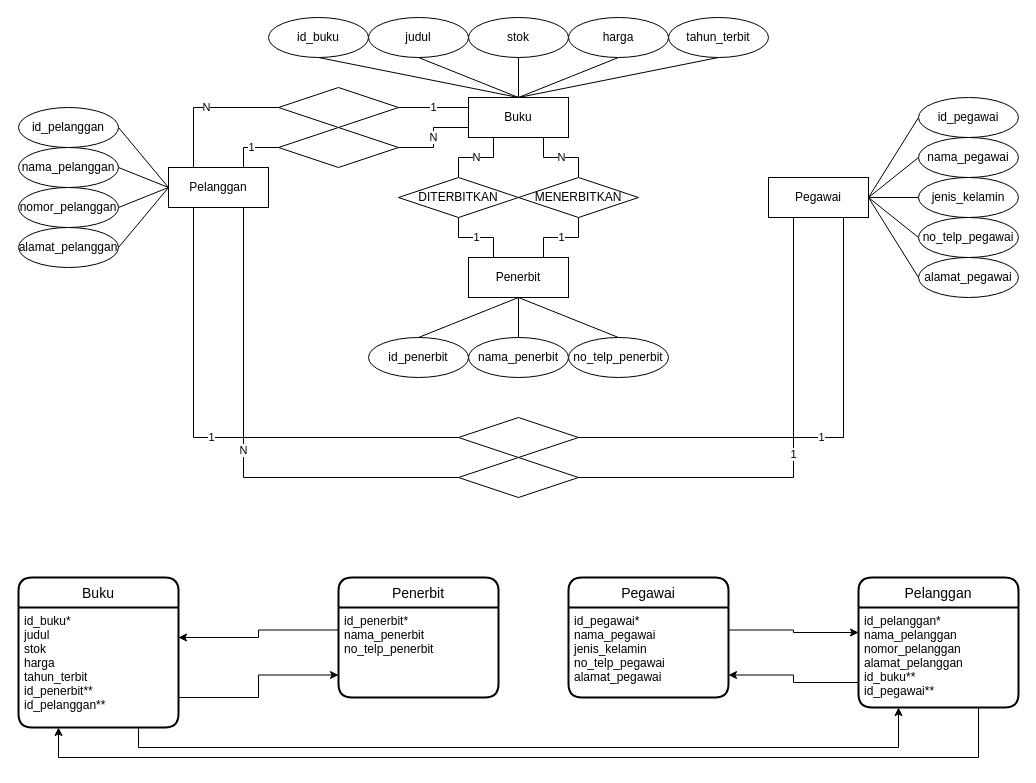
Some shapes in this 1036 by 783 pixel diagram are drawn without their labels. The shapes that lost their labels are listed below. From the top down, each one's centre as x and y in pixels, then its label:
(338,107): DIBELI
(338,147): MEMBELI
(518,437): DILAYANI
(518,477): MELAYANI
